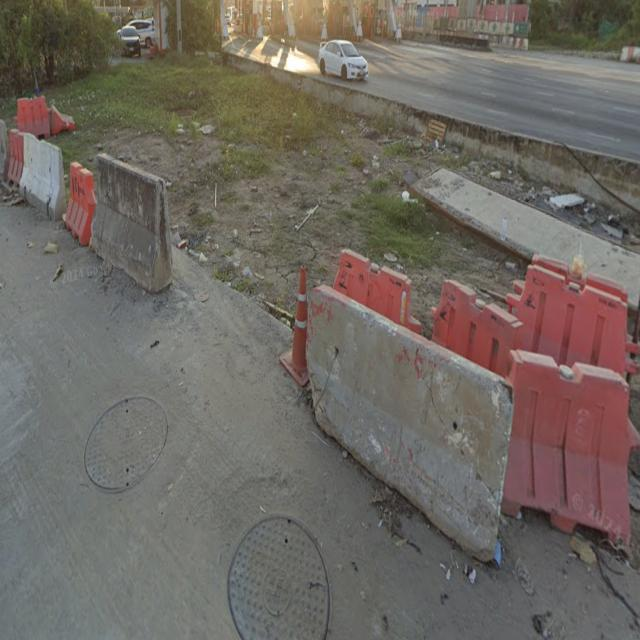fallen_object: (306, 279, 520, 562), (477, 346, 640, 546), (487, 227, 637, 383), (33, 157, 168, 289), (419, 256, 517, 375), (253, 245, 323, 381), (312, 250, 420, 327), (0, 121, 61, 227), (9, 85, 96, 143)
